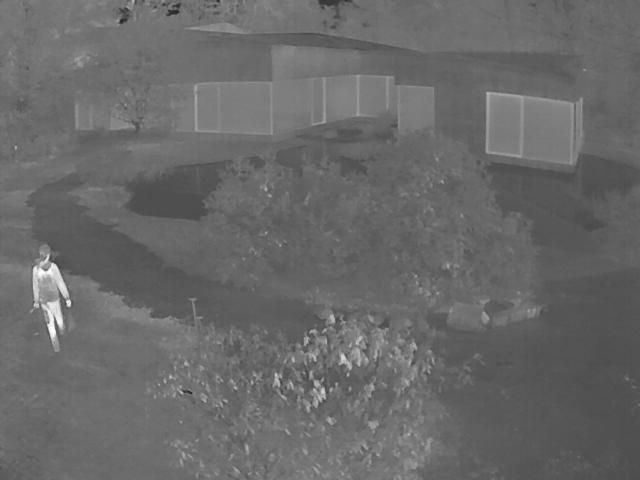person: (35, 243, 73, 354)
